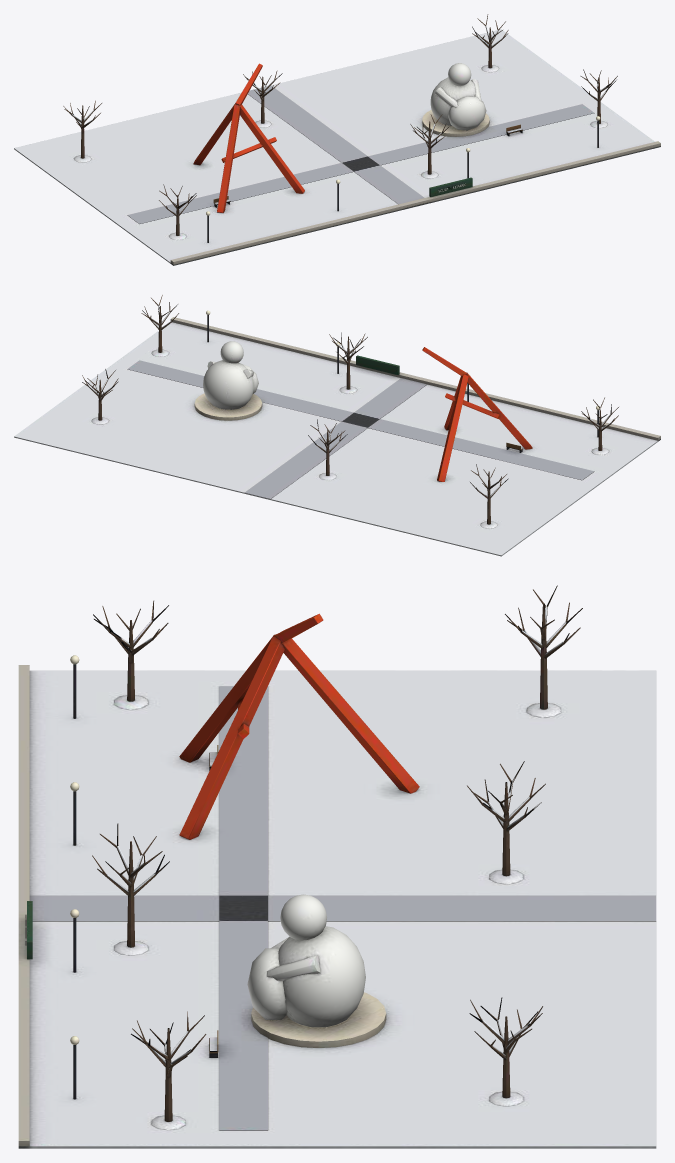
File: parque_esculturas.glb
The picture shows the model from 3 angles, top to bottom: view 1: azimuth 30°, elevation 25°; view 2: azimuth 150°, elevation 25°; view 3: azimuth 270°, elevation 25°; orthographic projection. The views are drawn at different scales.
Parts seen in each view (by area): view 1: parque_esculturas; view 2: parque_esculturas; view 3: parque_esculturas.
Part boxes in pixels (x1,y1,x2,y2): parque_esculturas: (14, 14, 660, 265); parque_esculturas: (14, 295, 660, 556); parque_esculturas: (18, 585, 656, 1148).
Bounding box in the file's own units: 60 × 12.98 × 34.
Materials: 1 (1 with a texture image).
